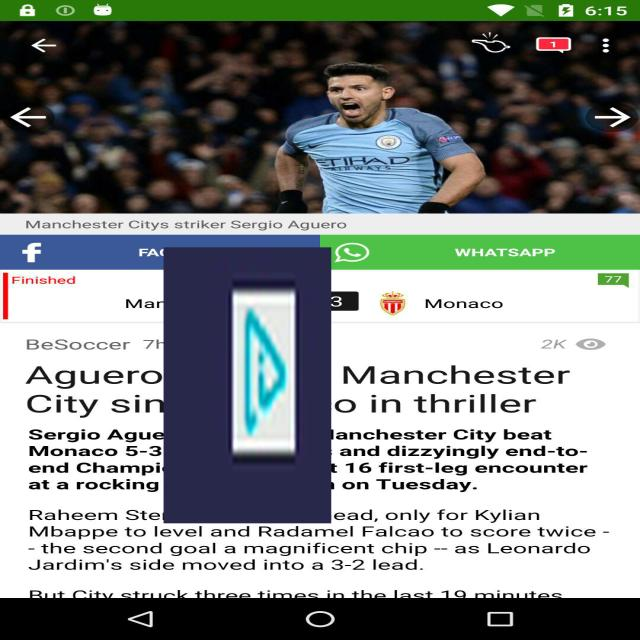sneaking: (164, 247, 331, 524)
